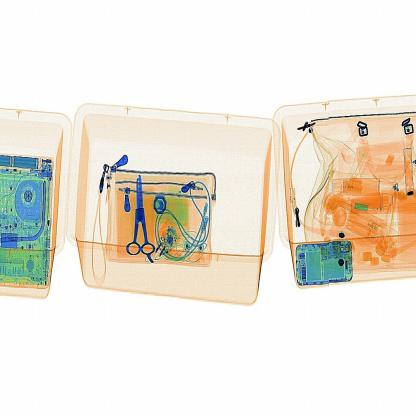gun: (121, 171, 162, 264)
